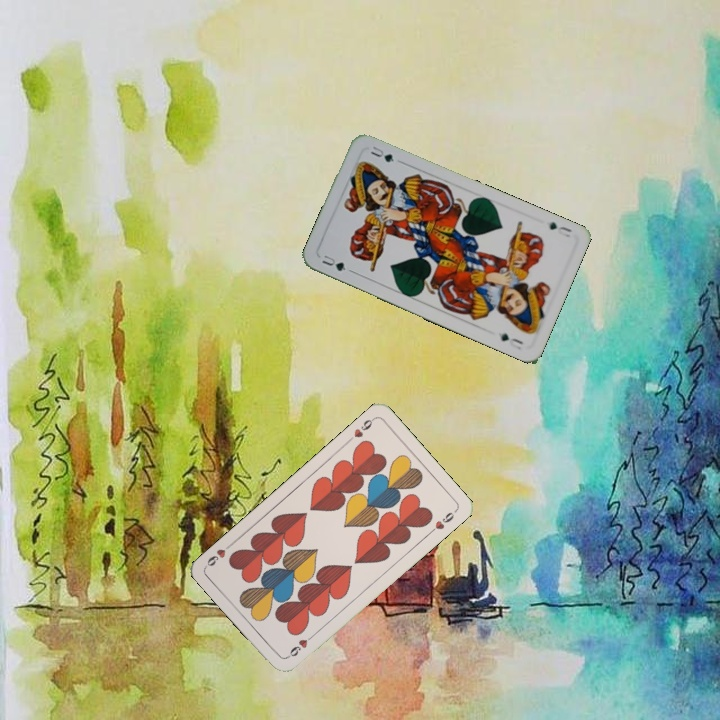GU: (318, 251, 355, 275), (545, 218, 575, 240)
H9: (344, 414, 378, 445), (283, 630, 317, 661)
